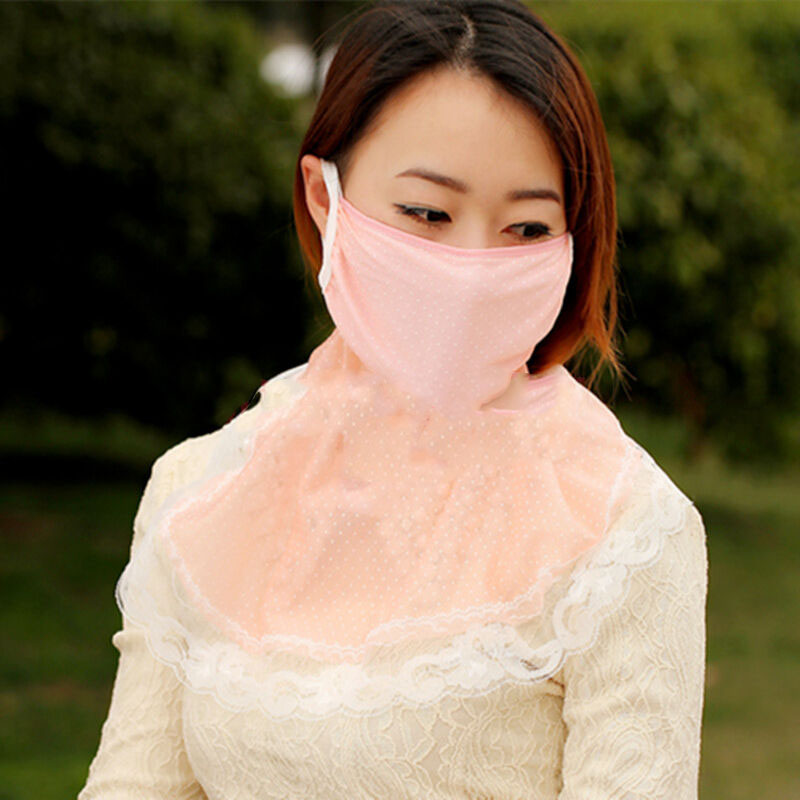face_mask: (337, 78, 568, 387)
